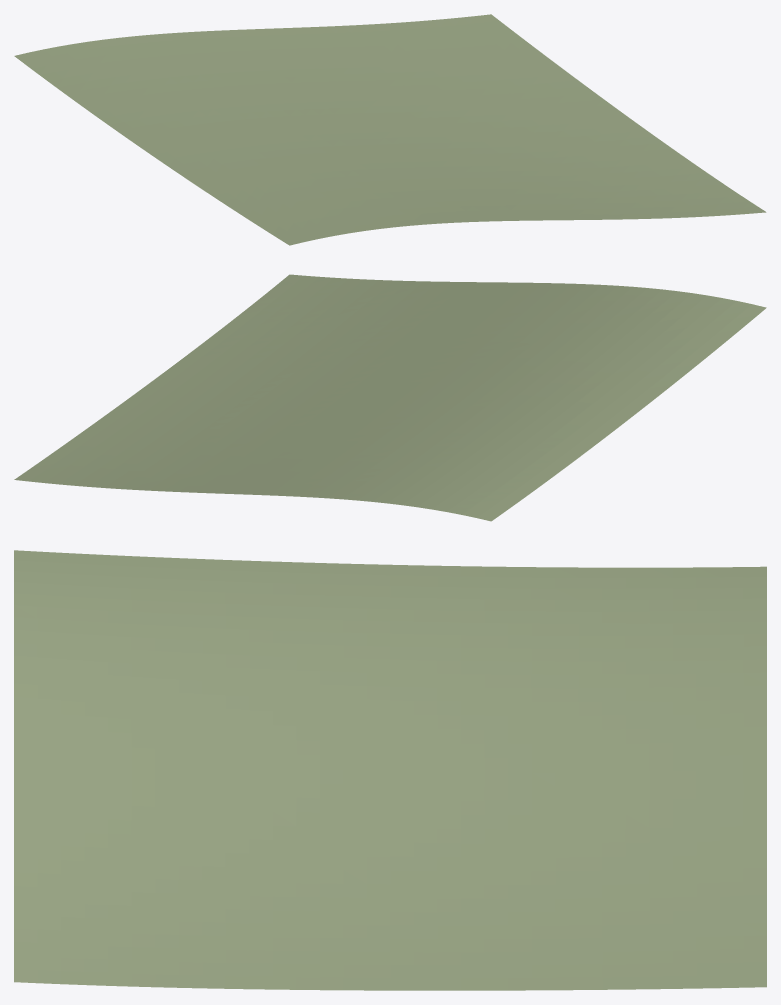
File: expanse-22-25.glb
3 renders of one model, top to bottom at view 1: azimuth 30°, elevation 25°; view 2: azimuth 150°, elevation 25°; view 3: azimuth 270°, elevation 25°, orthographic. The views are drawn at different scales.
Parts seen in each view (by area): view 1: expanse-22-25; view 2: expanse-22-25; view 3: expanse-22-25.
Boxes of the visible parts, x1,y1,x2,y2 form: expanse-22-25: (14, 14, 766, 245); expanse-22-25: (14, 274, 766, 521); expanse-22-25: (14, 550, 766, 990).
Size of the model in its own units: 256 by 45.85 by 256.
